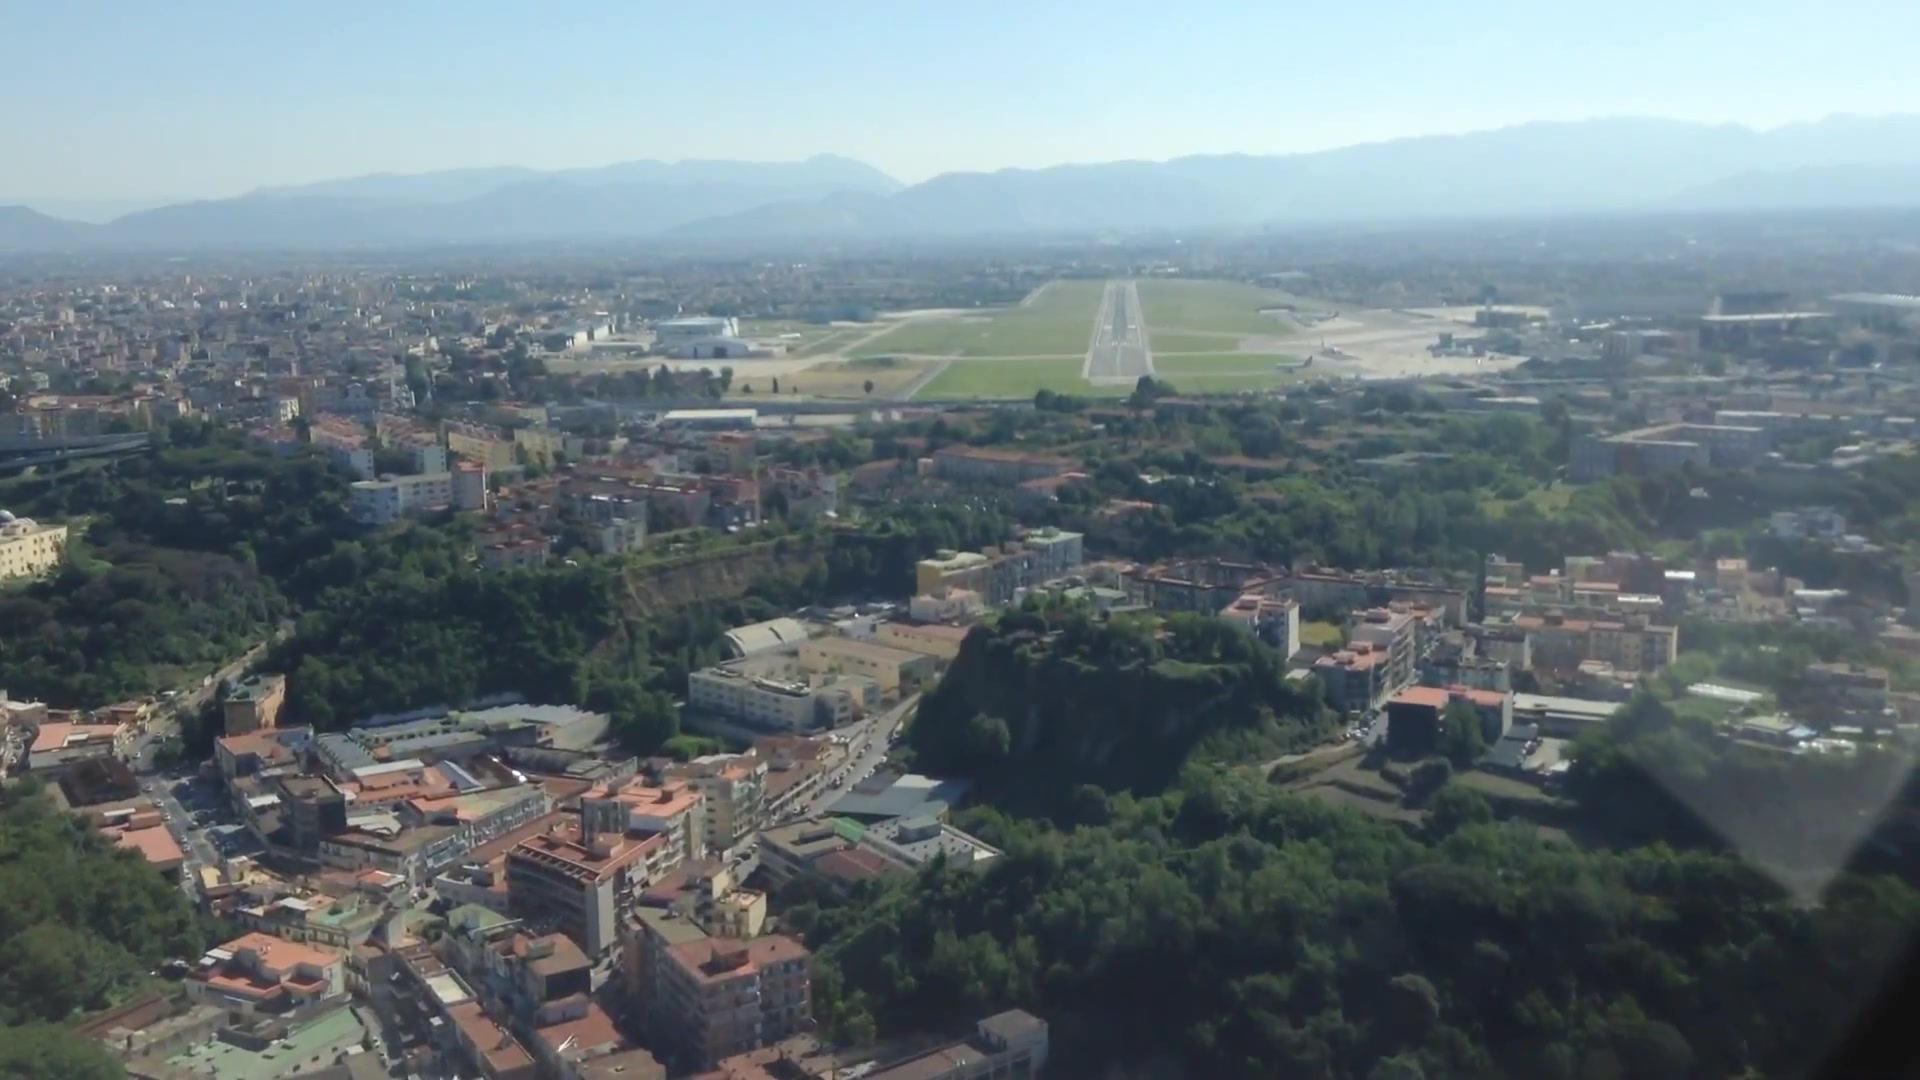runway: (1084, 281, 1154, 386)
